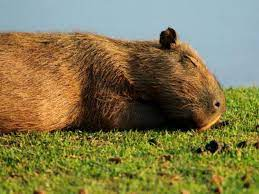capivara: (1, 25, 226, 132)
